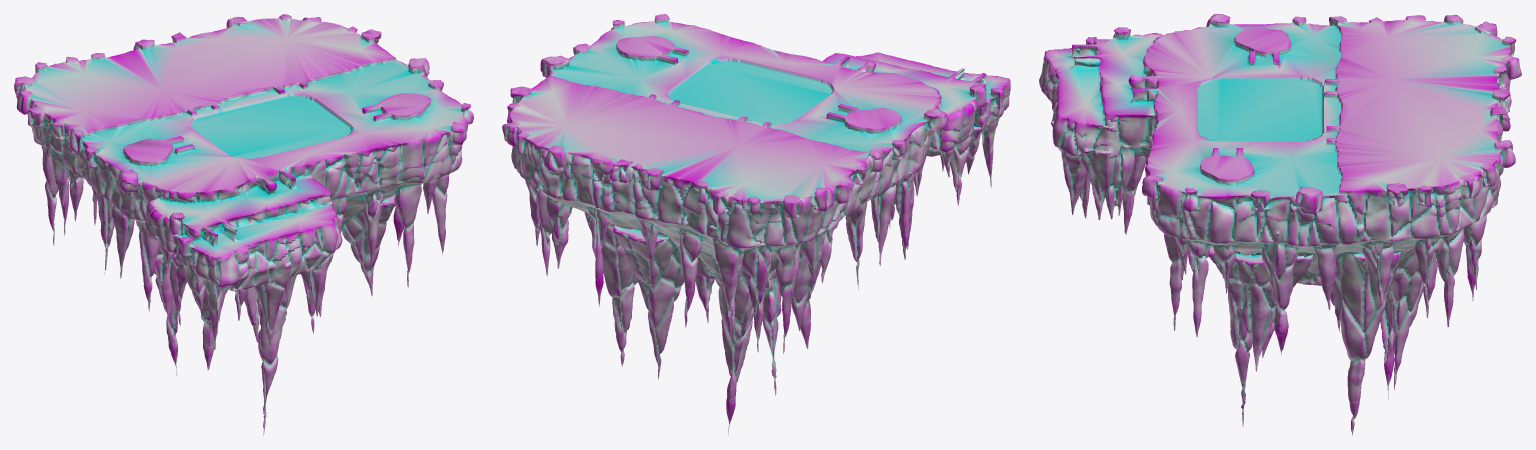
The model's file is EN_BairroVoador_Rocha.fbx.
The picture shows the model from 3 angles, left to right: view 1: azimuth 30°, elevation 25°; view 2: azimuth 150°, elevation 25°; view 3: azimuth 270°, elevation 25°; orthographic projection. The views are drawn at different scales.
Parts seen in each view (by area): view 1: EN_BairroVoador_Rocha; view 2: EN_BairroVoador_Rocha; view 3: EN_BairroVoador_Rocha.
Boxes of the visible parts, x1,y1,x2,y2 form: EN_BairroVoador_Rocha: [14, 14, 473, 435]; EN_BairroVoador_Rocha: [502, 14, 1010, 434]; EN_BairroVoador_Rocha: [1039, 14, 1521, 435].
Size of the model in its own units: 133 by 111 by 146.
